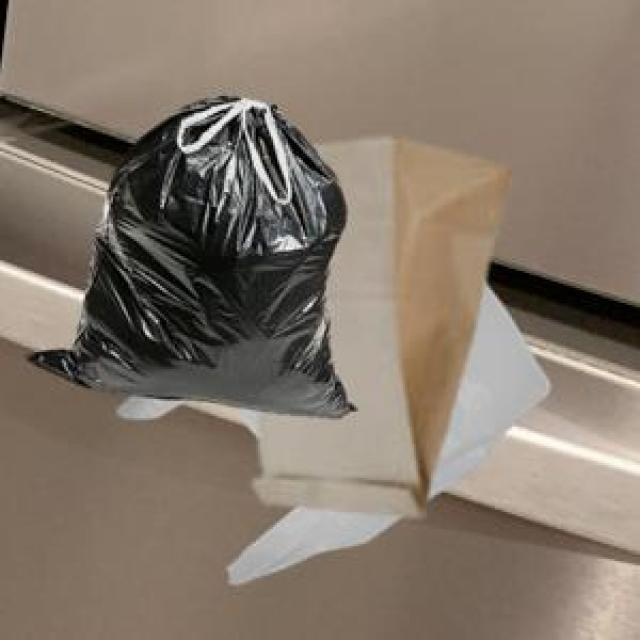miscellaneous trash: (21, 92, 352, 414)
paper: (250, 134, 506, 512)
